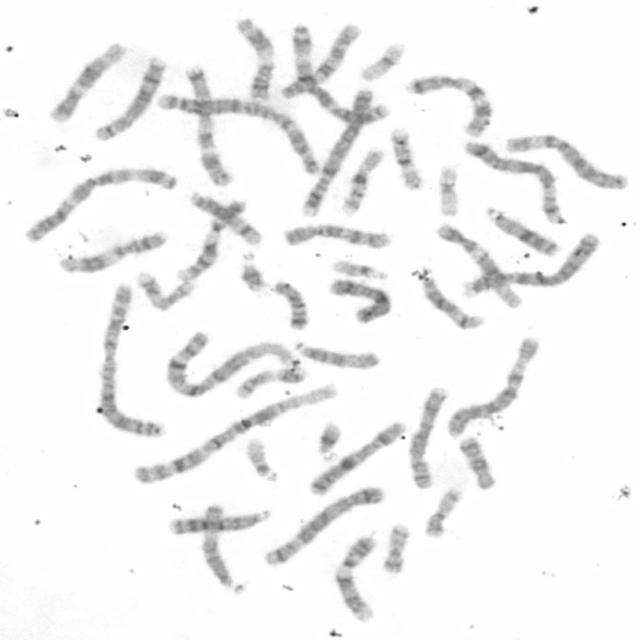A1: (127, 379, 341, 486), (160, 329, 302, 400)
A2: (155, 90, 322, 176), (92, 279, 167, 442)
A3: (19, 163, 180, 244), (286, 20, 392, 126)
B4: (297, 83, 378, 218), (457, 229, 602, 300)
B5: (259, 483, 386, 568), (462, 138, 566, 226)
C10: (279, 22, 364, 101), (279, 220, 394, 251)
C11: (54, 227, 170, 276), (232, 13, 275, 103)
C12: (432, 219, 525, 311), (44, 38, 127, 125)
C6: (442, 332, 543, 439), (502, 129, 629, 192)
C7: (181, 62, 235, 188), (404, 70, 494, 139)
C8: (90, 53, 169, 143), (404, 382, 451, 491)
C9: (172, 195, 251, 282), (330, 532, 380, 624)
D13: (481, 204, 560, 259), (166, 506, 270, 536)
D14: (186, 188, 263, 246), (418, 274, 485, 330)
D15: (198, 500, 237, 591), (291, 338, 381, 371)
E16: (335, 144, 387, 218), (386, 125, 424, 192)
E17: (231, 363, 309, 402), (133, 267, 198, 312)
E18: (457, 432, 498, 491), (269, 276, 311, 332)
F19: (355, 39, 409, 84), (434, 162, 462, 218)
F20: (420, 484, 463, 540), (378, 520, 412, 575)
G21: (235, 249, 267, 294), (313, 416, 343, 461)
G22: (241, 434, 280, 484), (330, 254, 390, 282)
X: (305, 418, 408, 498), (324, 275, 394, 326)
